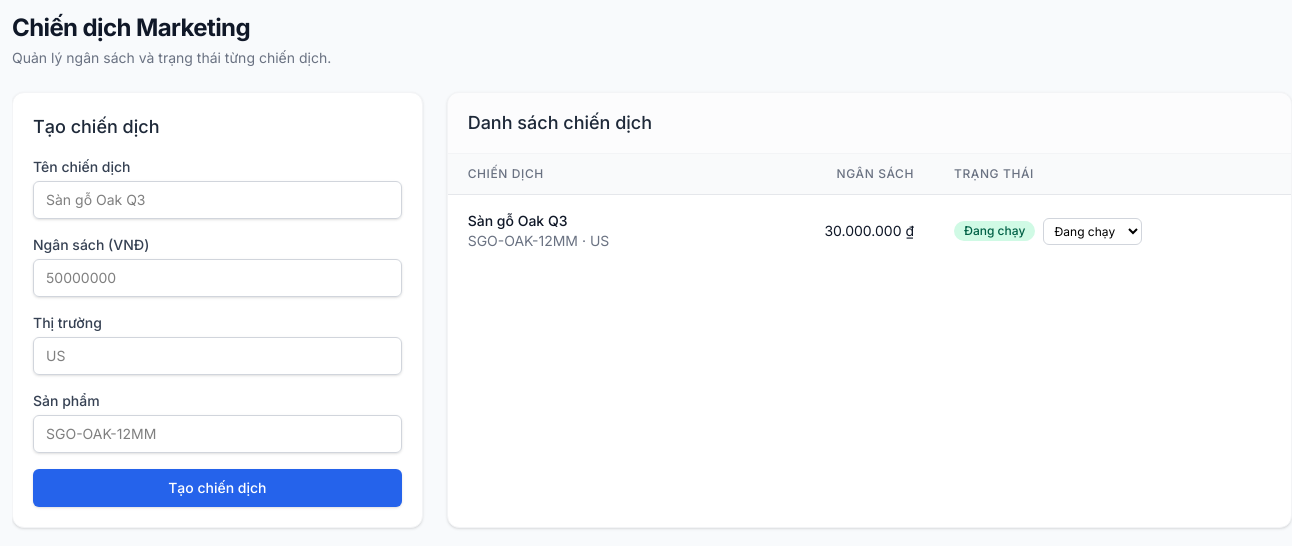
Test: CampaignsPage › hiển thị danh sách chiến dịch và tạo mới qua form
Expected: the text "Sàn gỗ Oak Q3" is shown, [468,212,568,229]
Type "Sàn nhựa SPC Q4" into the field labelled "Tên chiến dịch" at [217, 200], box [33,181,402,219]
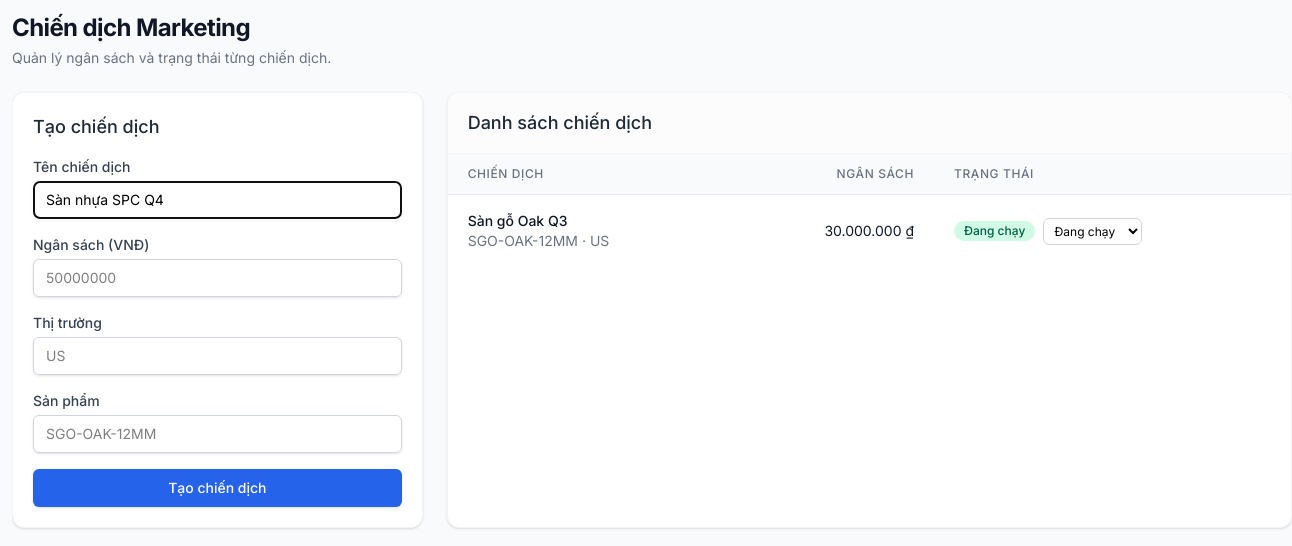
Type "20000000" into the number field labelled "Ngân sách (VNĐ)" at [217, 278], box [33,259,402,297]
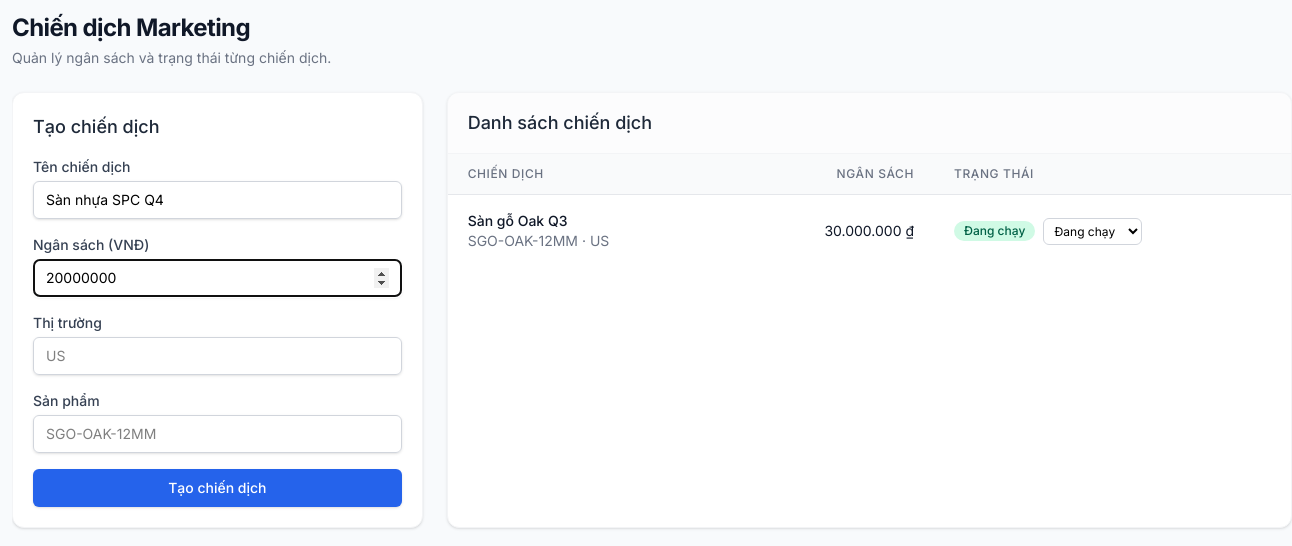
Click the button "Tạo chiến dịch" at [217, 488], box [33,469,402,507]
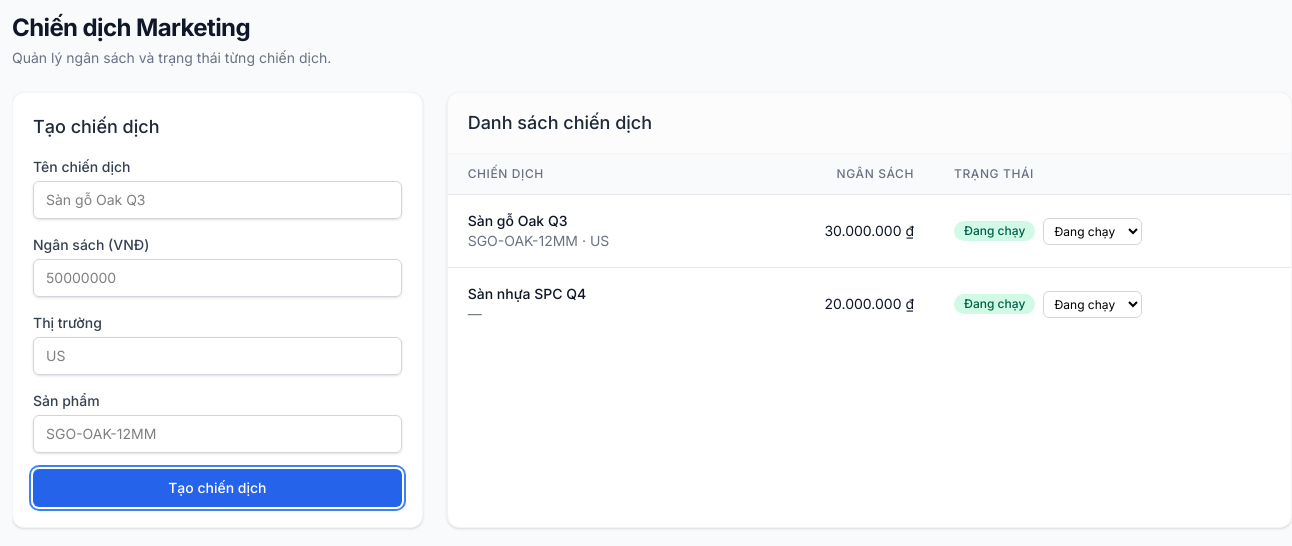
Result: the text "Sàn nhựa SPC Q4" is shown at [468,285,586,302]
